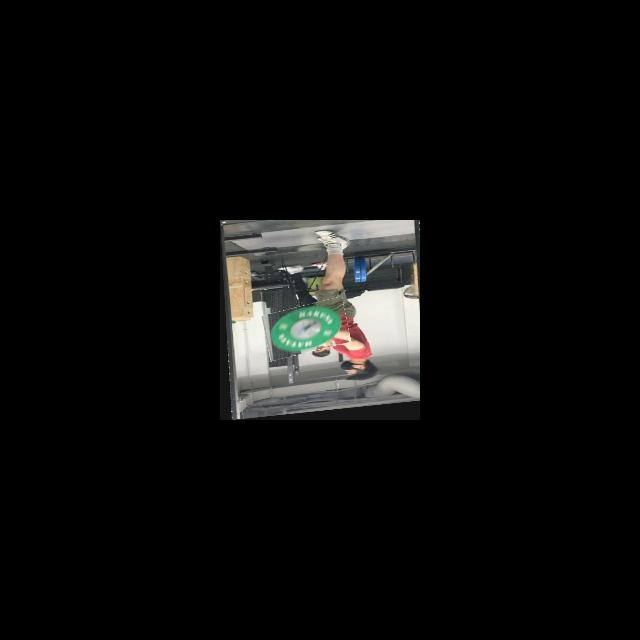barbell: (261, 301, 348, 360)
